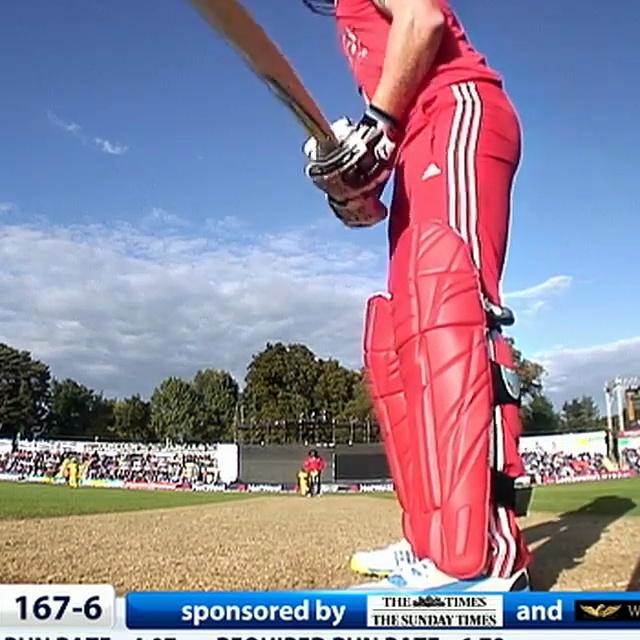person: (297, 0, 571, 593)
